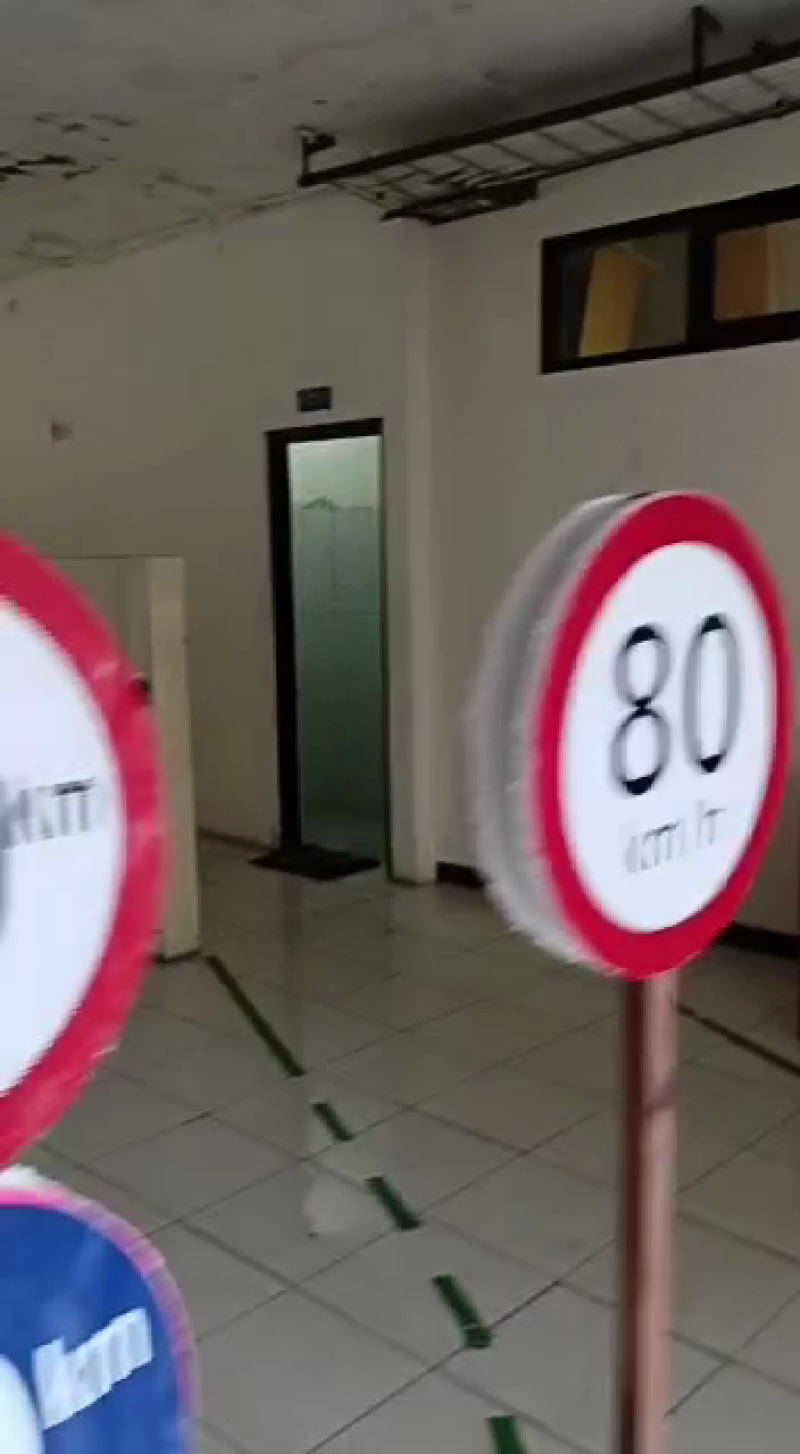batas maksimal 80kmperjam: (485, 431, 800, 1001)
